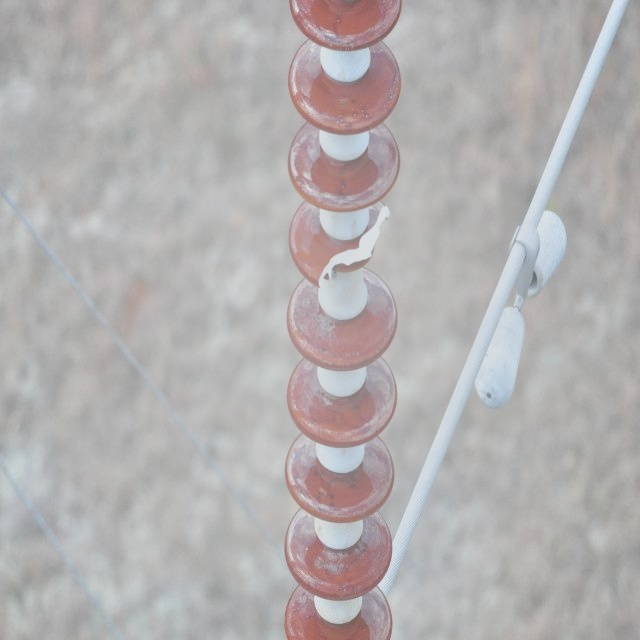broken: (318, 203, 392, 288)
insulator: (284, 0, 404, 637)
